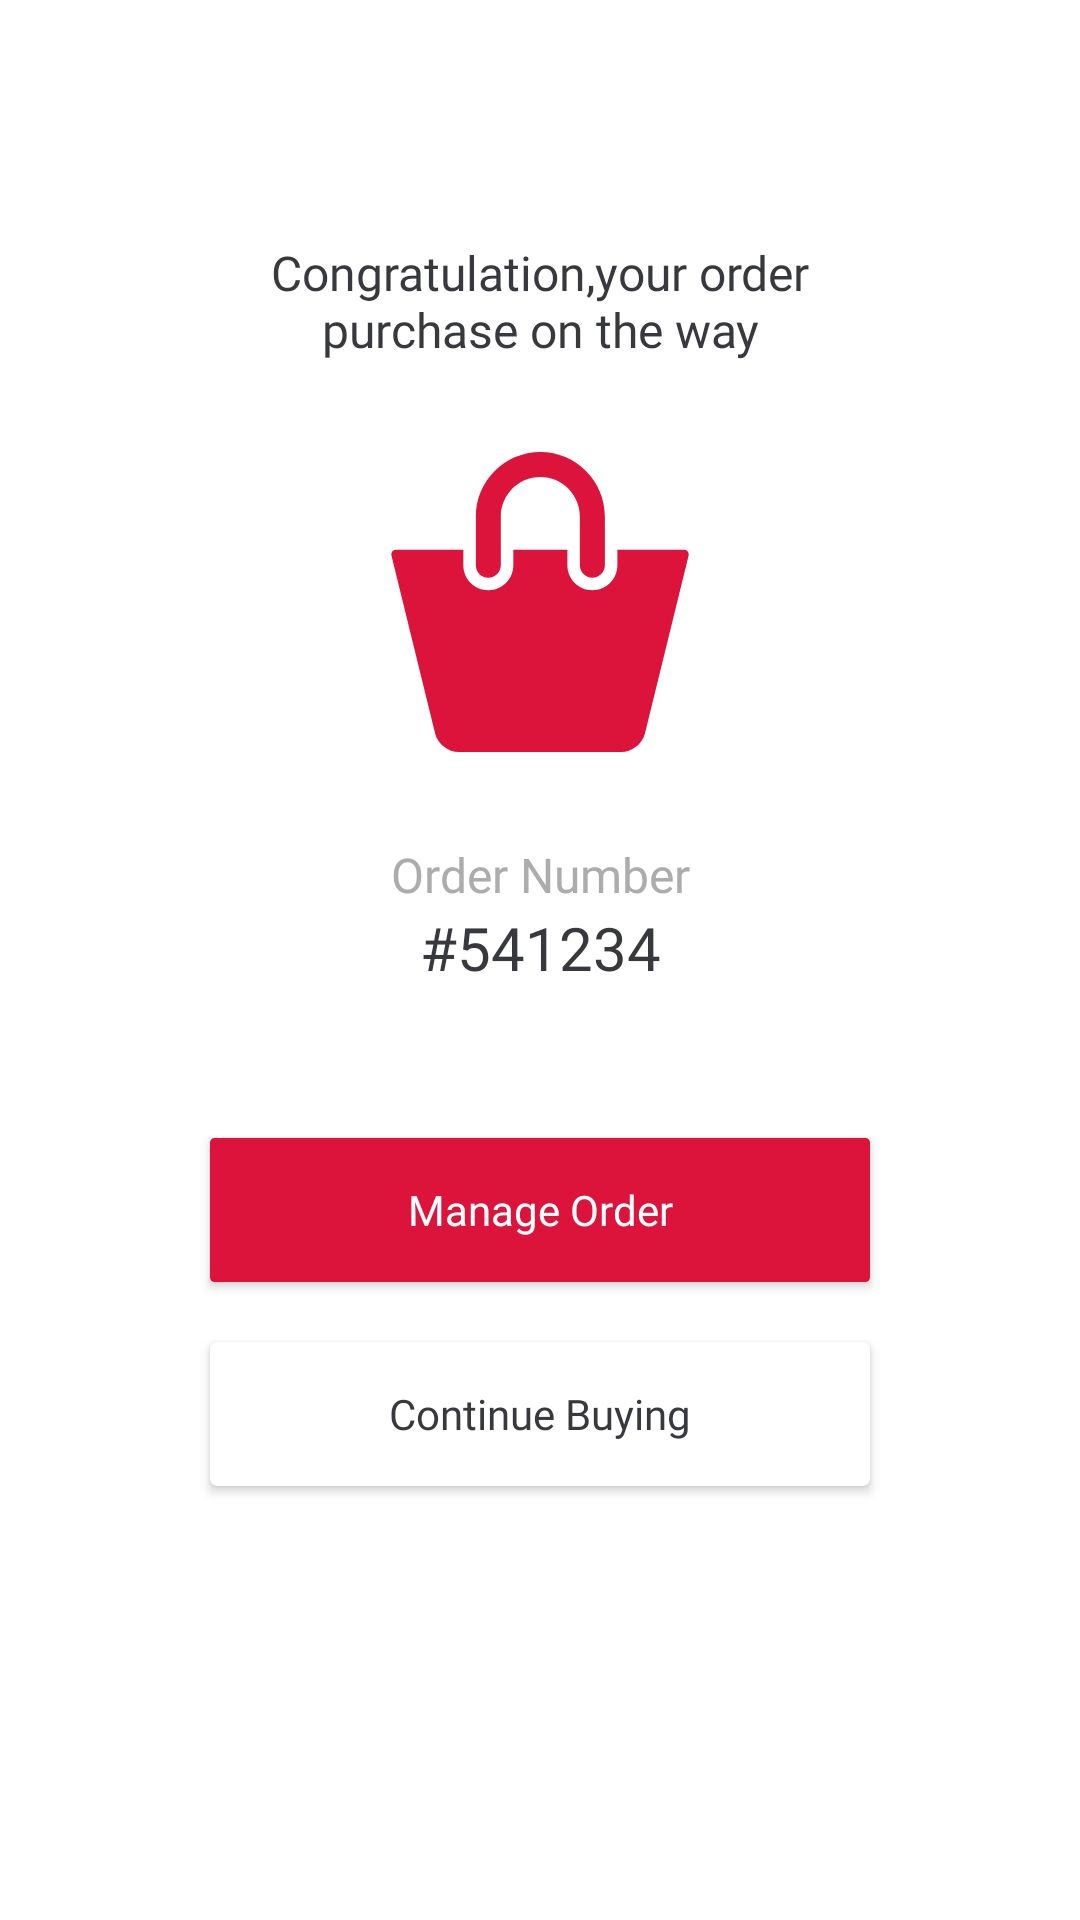

Icon click points for this 1080w x 1920h phone screenshot, format (x,y):
shopping basket: (540,602)
